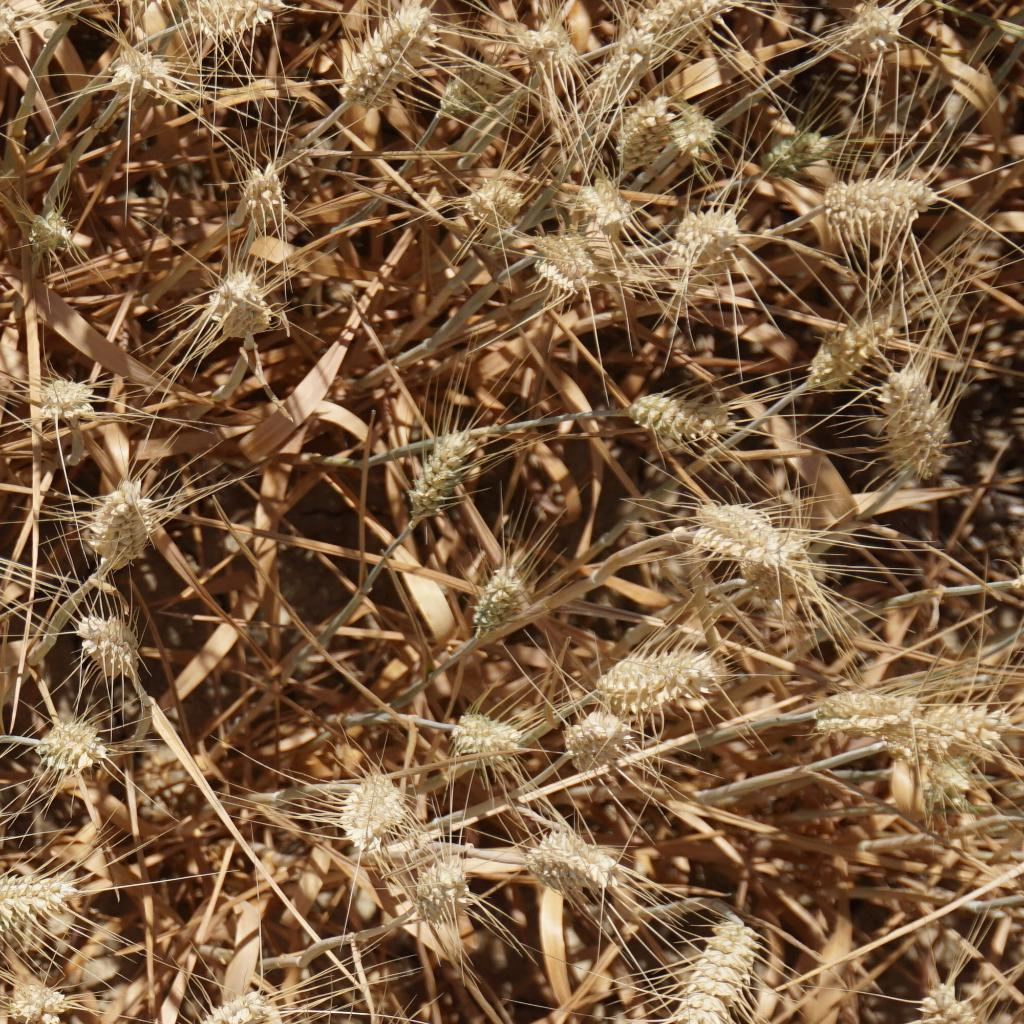0-0: (681, 917, 787, 1024), (878, 360, 961, 484), (602, 630, 722, 714), (811, 153, 919, 238), (905, 697, 1004, 789), (78, 482, 171, 579), (416, 58, 527, 136), (795, 303, 888, 393), (69, 606, 165, 689), (393, 846, 476, 937), (348, 15, 425, 112), (525, 823, 624, 898), (401, 427, 500, 502), (90, 47, 195, 114), (557, 165, 646, 238), (228, 155, 301, 240), (27, 718, 116, 787), (642, 391, 728, 462), (181, 0, 295, 53), (645, 0, 732, 67), (464, 555, 539, 632), (11, 198, 88, 273), (334, 765, 407, 842), (817, 689, 909, 750), (669, 193, 730, 283), (0, 868, 84, 933), (824, 0, 915, 60), (437, 702, 516, 768), (458, 169, 533, 234), (206, 265, 273, 336), (551, 716, 633, 774), (732, 535, 815, 592), (903, 972, 990, 1024), (760, 117, 837, 173), (505, 27, 572, 90), (624, 84, 687, 151), (691, 502, 765, 551), (537, 232, 596, 291), (13, 974, 82, 1024), (175, 990, 269, 1024), (41, 368, 92, 427), (0, 2, 25, 70)
